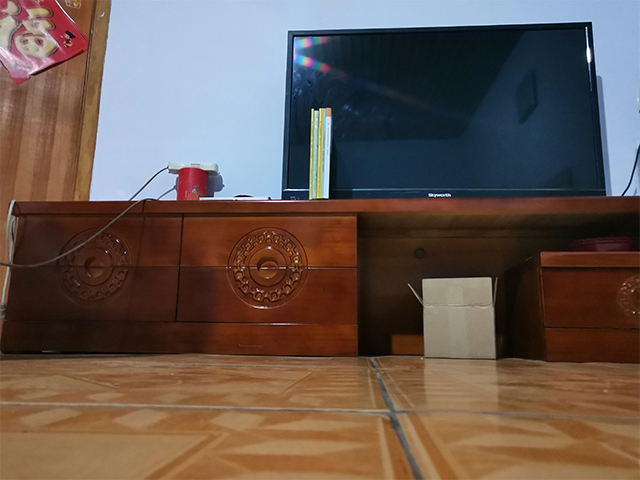cabinet: (1, 192, 640, 366)
